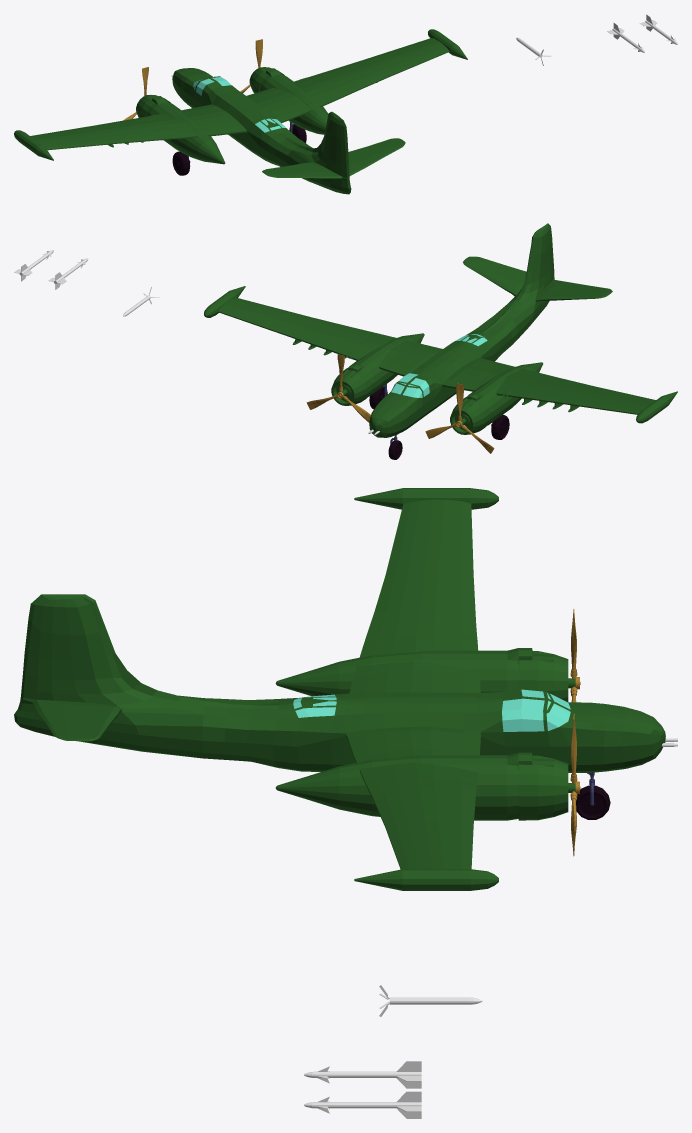
The picture shows the model from 3 angles, top to bottom: view 1: azimuth 30°, elevation 25°; view 2: azimuth 150°, elevation 25°; view 3: azimuth 270°, elevation 25°; orthographic projection. The views are drawn at different scales.
Parts seen in each view (by area): view 1: Cylinder.031, Plane.011, Cylinder.001, Cylinder.005, Cylinder.039, Plane.004, Cylinder.033, Torus.002, Cylinder.034, Plane.010, Plane.009, Plane.003 (+2 smaller); view 2: Plane.011, Cylinder.031, Cylinder.001, Plane.010, Cylinder.032, Torus.002, Cylinder.002, Cylinder.005; view 3: Plane.011, Cylinder.031, Cylinder.001, Plane.010, Plane.004, Cylinder.039, Cylinder.005, Cylinder.034, Cylinder.033, Torus.001.
Boxes of the visible parts, left/top/right/bottom form: Cylinder.031: left=14, top=29, right=467, bottom=160; Plane.011: left=172, top=68, right=404, bottom=194; Cylinder.001: left=136, top=67, right=328, bottom=164; Cylinder.005: left=321, top=70, right=388, bottom=102; Cylinder.039: left=111, top=129, right=186, bottom=143; Plane.004: left=335, top=124, right=349, bottom=177; Cylinder.033: left=382, top=46, right=448, bottom=77; Torus.002: left=172, top=124, right=306, bottom=175; Cylinder.034: left=42, top=136, right=116, bottom=150; Plane.010: left=193, top=77, right=285, bottom=132; Plane.009: left=350, top=141, right=405, bottom=172; Plane.003: left=267, top=171, right=332, bottom=178; Plane.011: left=369, top=223, right=611, bottom=437; Cylinder.031: left=204, top=286, right=677, bottom=423; Cylinder.001: left=331, top=333, right=543, bottom=434; Plane.010: left=391, top=334, right=487, bottom=397; Cylinder.032: left=425, top=383, right=494, bottom=453; Torus.002: left=369, top=387, right=509, bottom=439; Cylinder.002: left=306, top=354, right=370, bottom=422; Cylinder.005: left=305, top=317, right=383, bottom=338; Plane.011: left=14, top=594, right=665, bottom=771; Cylinder.031: left=345, top=488, right=498, bottom=890; Cylinder.001: left=275, top=648, right=575, bottom=820; Plane.010: left=293, top=689, right=570, bottom=731; Plane.004: left=21, top=604, right=53, bottom=700; Cylinder.039: left=363, top=572, right=407, bottom=645; Cylinder.005: left=363, top=773, right=407, bottom=826; Cylinder.034: left=385, top=502, right=420, bottom=575; Cylinder.033: left=385, top=822, right=419, bottom=869; Torus.001: left=576, top=785, right=610, bottom=819.
Bounding box in the file's own units: 10.08 × 1.84 × 4.93.
